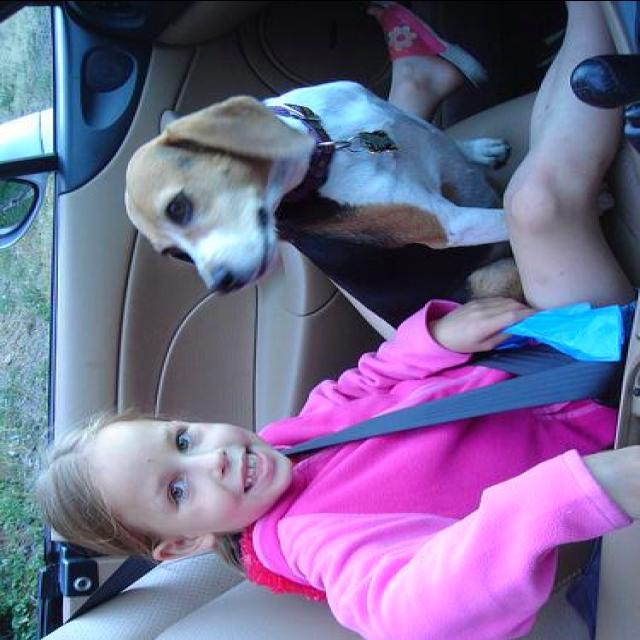beagle: (119, 75, 622, 333)
